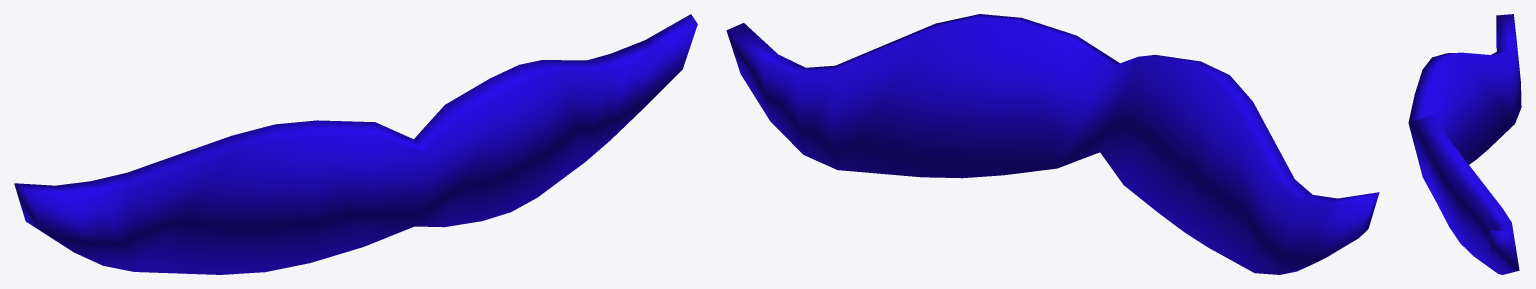
File: HipsterMoustache.fbx
The picture shows the model from 3 angles, left to right: view 1: azimuth 30°, elevation 25°; view 2: azimuth 150°, elevation 25°; view 3: azimuth 270°, elevation 25°; orthographic projection. The views are drawn at different scales.
Visible parts, largest first — view 1: Hipster Moustache; view 2: Hipster Moustache; view 3: Hipster Moustache.
Boxes of the visible parts, bbox=[...] form: Hipster Moustache: bbox=[14, 14, 697, 274]; Hipster Moustache: bbox=[726, 14, 1379, 274]; Hipster Moustache: bbox=[1408, 14, 1521, 274].
Size of the model in its own units: 43.06 by 9.5 by 9.18.
